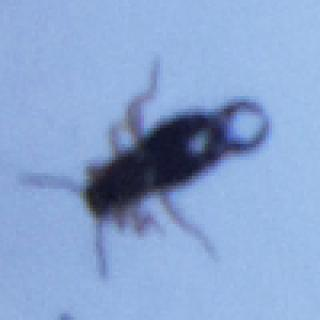earwig: (15, 49, 272, 276)
